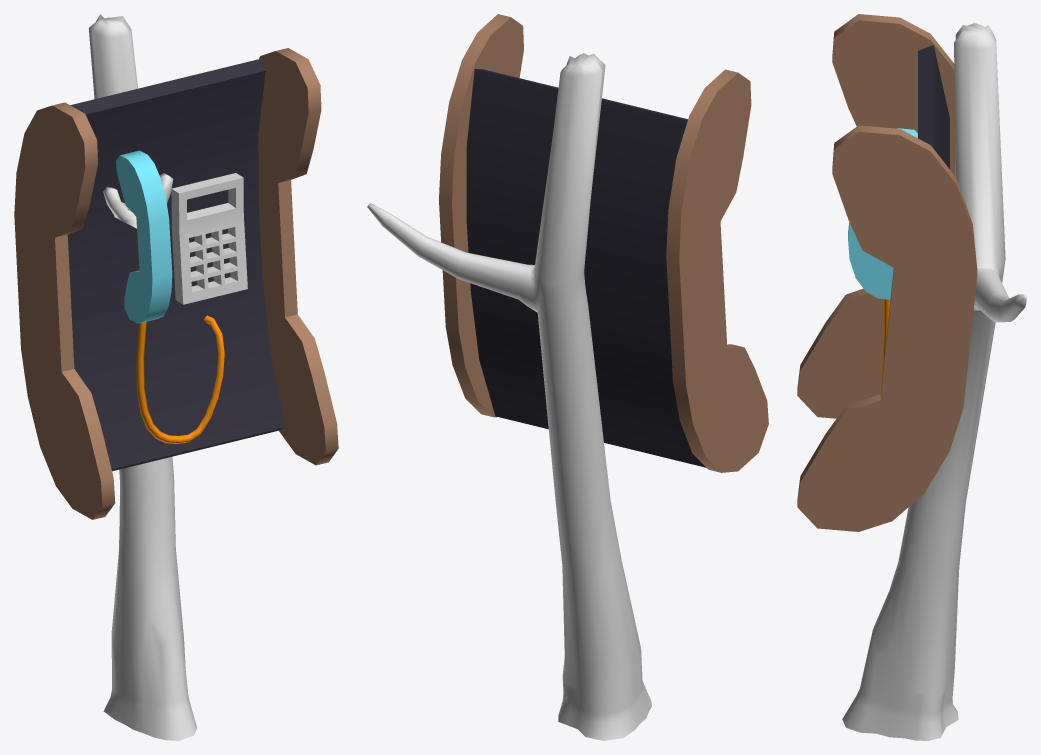
File: payphone.fbx
3 renders of one model, left to right at view 1: azimuth 30°, elevation 25°; view 2: azimuth 150°, elevation 25°; view 3: azimuth 270°, elevation 25°, orthographic. The views are drawn at different scales.
Visible parts, largest first — view 1: payphone_back, payphone_sides, payphone_branch, payphone_box, payphone_phone, payphone_thread, payphone_claw; view 2: payphone_back, payphone_branch, payphone_sides; view 3: payphone_sides, payphone_branch, payphone_back, payphone_phone.
Boxes of the visible parts, left/top/right/bottom form: payphone_back: left=67, top=59, right=284, bottom=471; payphone_sides: left=14, top=48, right=338, bottom=519; payphone_branch: left=88, top=14, right=196, bottom=740; payphone_box: left=171, top=173, right=247, bottom=304; payphone_phone: left=116, top=150, right=172, bottom=323; payphone_thread: left=136, top=315, right=224, bottom=443; payphone_claw: left=103, top=173, right=173, bottom=228; payphone_back: left=466, top=69, right=706, bottom=467; payphone_branch: left=367, top=53, right=651, bottom=740; payphone_sides: left=439, top=14, right=768, bottom=472; payphone_sides: left=797, top=14, right=977, bottom=531; payphone_branch: left=842, top=23, right=1026, bottom=740; payphone_back: left=918, top=45, right=949, bottom=168; payphone_phone: left=848, top=128, right=917, bottom=299.
Size of the model in its own units: 97.99 by 67.36 by 224.
